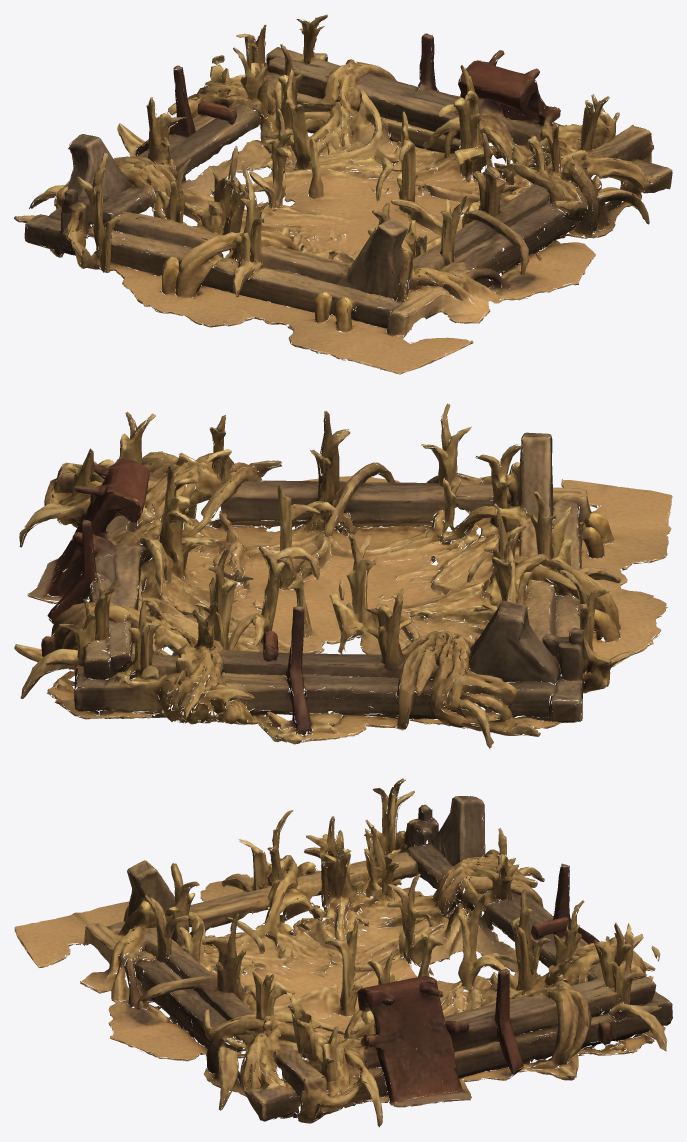
File: cf_scatter_patch.glb
3 renders of one model, top to bottom at view 1: azimuth 30°, elevation 25°; view 2: azimuth 150°, elevation 25°; view 3: azimuth 270°, elevation 25°, orthographic. The views are drawn at different scales.
Visible parts, largest first — view 1: base; view 2: base; view 3: base.
Boxes of the visible parts, box(x1,y1,x2,y2) form: base: box(14, 14, 672, 374); base: box(14, 403, 672, 749); base: box(14, 778, 672, 1127).
Size of the model in its own units: 1.4 by 0.3 by 1.46.
1 material, 1 textured.
